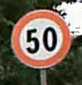limite 50: (10, 9, 70, 69)
